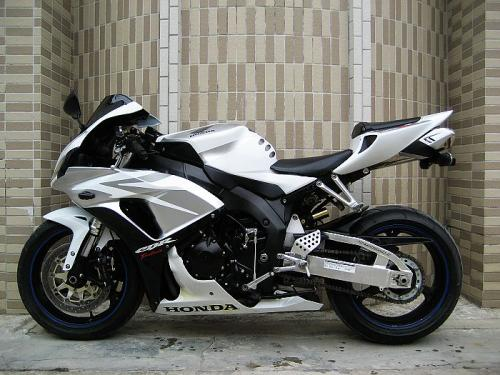motor: (24, 92, 462, 348)
